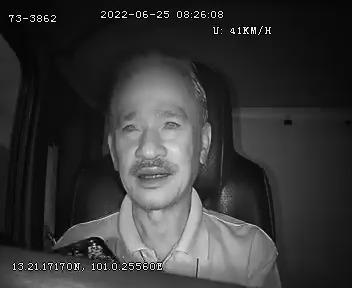PhoneUse: (32, 226, 131, 275)
